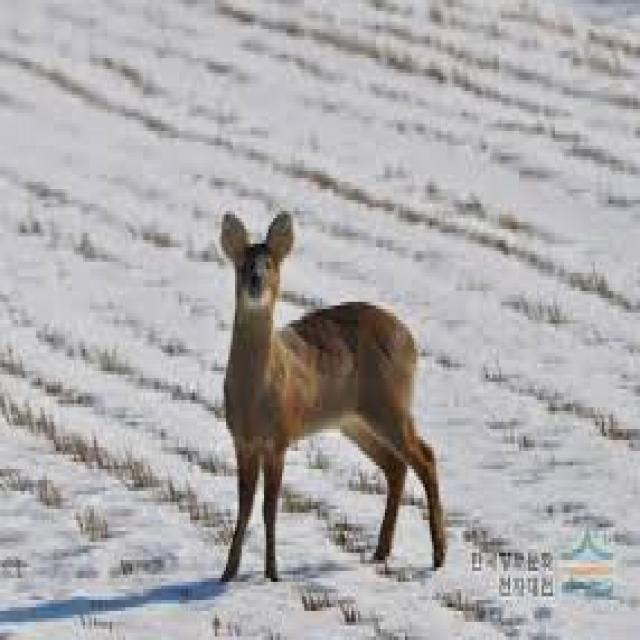elk: (177, 163, 477, 597)
